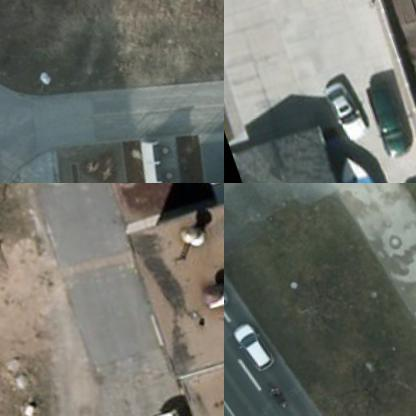car: (310, 72, 367, 146), (224, 318, 268, 375)
pickup: (355, 83, 408, 170)
